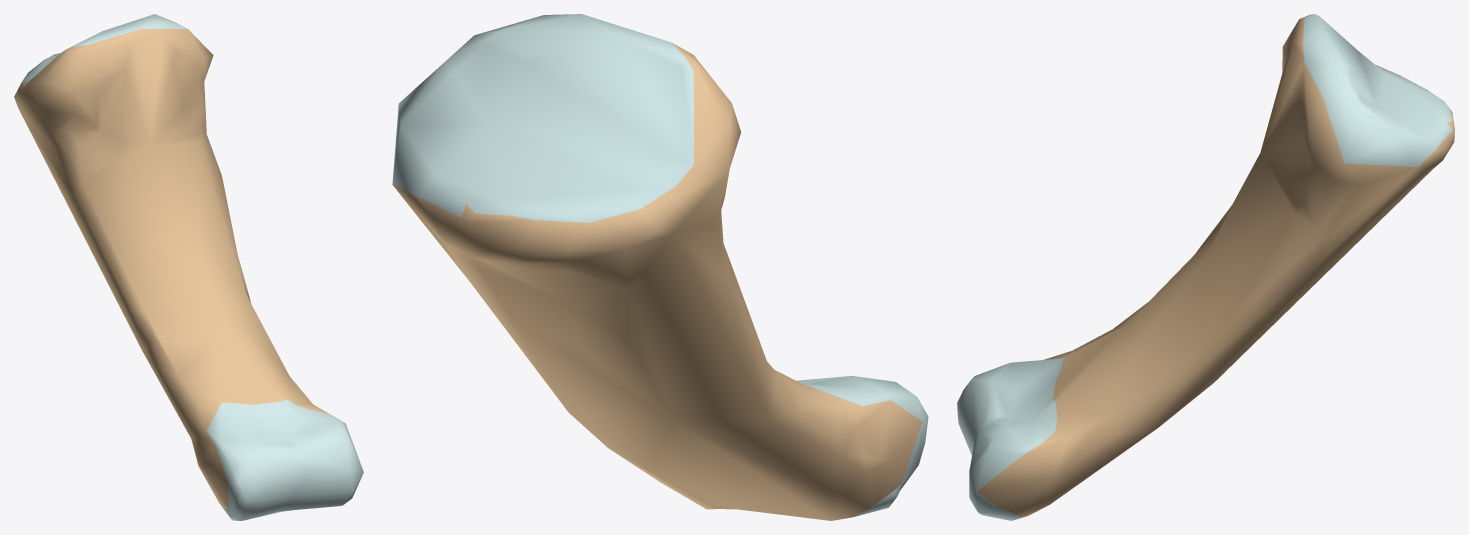
File: Middle_phalanx_of_4th_finger.l_Generated_Mesh_From_X3D.716.glb
The picture shows the model from 3 angles, left to right: view 1: azimuth 30°, elevation 25°; view 2: azimuth 150°, elevation 25°; view 3: azimuth 270°, elevation 25°; orthographic projection. The views are drawn at different scales.
Parts seen in each view (by area): view 1: Middle_phalanx_of_4th_finger.l_Generated_Mesh_From_X3D.716; view 2: Middle_phalanx_of_4th_finger.l_Generated_Mesh_From_X3D.716; view 3: Middle_phalanx_of_4th_finger.l_Generated_Mesh_From_X3D.716.
Part boxes in pixels (<box>): Middle_phalanx_of_4th_finger.l_Generated_Mesh_From_X3D.716: <box>14,14,363,520</box>; Middle_phalanx_of_4th_finger.l_Generated_Mesh_From_X3D.716: <box>392,14,928,520</box>; Middle_phalanx_of_4th_finger.l_Generated_Mesh_From_X3D.716: <box>957,14,1454,520</box>.
Bounding box in the file's own units: 0.0126 × 0.0248 × 0.0251.
